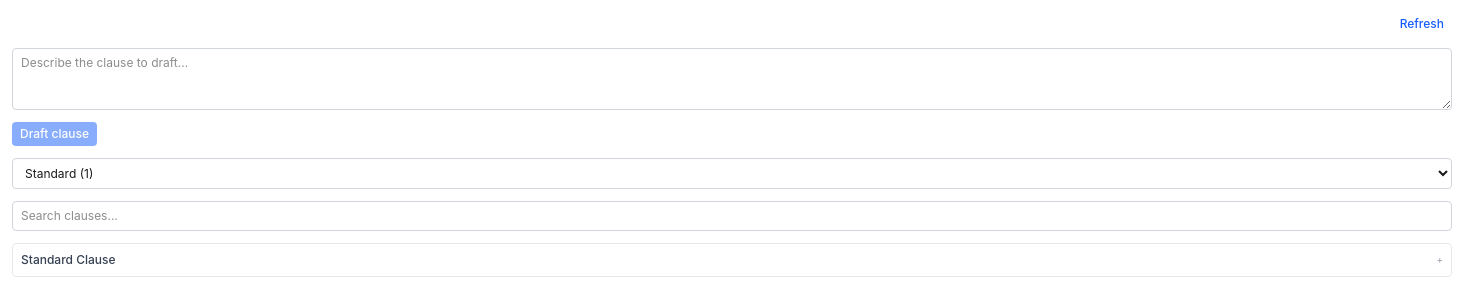
Scenario: ClausesPanel — paid tier › loads the selected database's clauses when switching databases
expect the text "Standard Clause" is shown: met, box x1=21 y1=252 x2=116 y2=268
Select "Custom (1)" in the dropdown at x=732, y=173, box x1=12 y1=158 x2=1452 y2=188
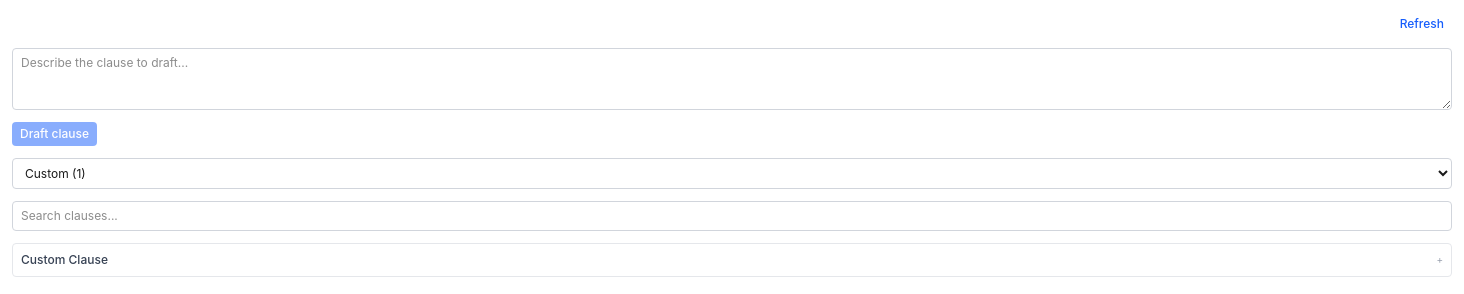
expect the text "Custom Clause" is shown: met, box x1=21 y1=252 x2=108 y2=268
